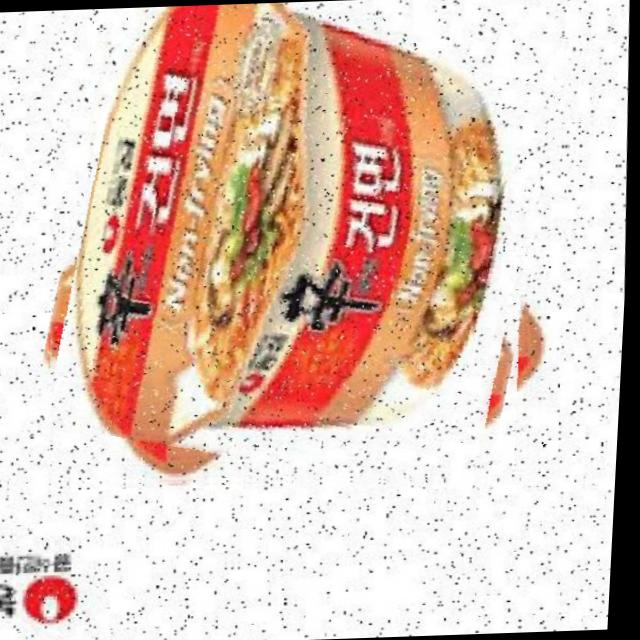Miscellaneous: (33, 0, 571, 494)
